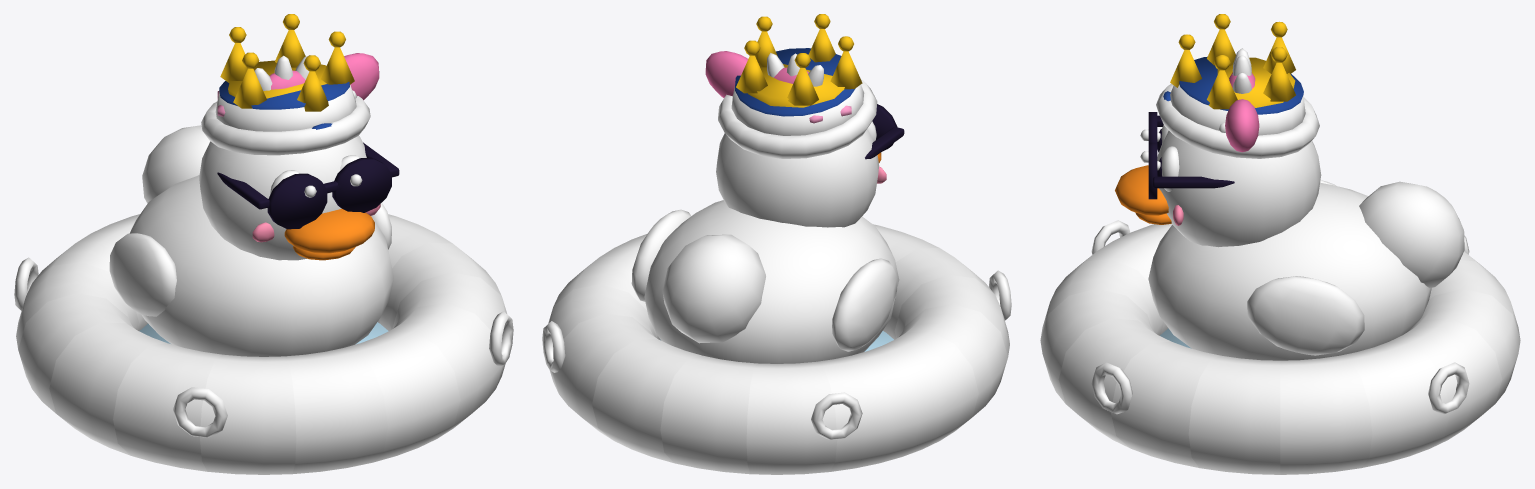
Rendered from ducks.glb.
3 views of the same model, side by side, from view 1: azimuth 30°, elevation 25°; view 2: azimuth 150°, elevation 25°; view 3: azimuth 270°, elevation 25° (orthographic). The views are drawn at different scales.
Visible parts, largest first — view 1: boat_mesh, duck_mesh, acc_sailor_mesh, acc_shades_mesh, acc_crown_mesh, acc_bow_mesh, acc_tuft_mesh; view 2: boat_mesh, duck_mesh, acc_sailor_mesh, acc_crown_mesh, acc_bow_mesh, acc_shades_mesh, acc_tuft_mesh; view 3: boat_mesh, duck_mesh, acc_sailor_mesh, acc_crown_mesh, acc_shades_mesh, acc_bow_mesh, acc_tuft_mesh.
Boxes of the visible parts, left/top/right/bottom form: boat_mesh: left=14, top=214, right=513, bottom=474; duck_mesh: left=109, top=125, right=393, bottom=356; acc_sailor_mesh: left=201, top=81, right=370, bottom=155; acc_shades_mesh: left=217, top=142, right=399, bottom=229; acc_crown_mesh: left=220, top=14, right=354, bottom=111; acc_bow_mesh: left=269, top=53, right=379, bottom=100; acc_tuft_mesh: left=254, top=55, right=310, bottom=90; boat_mesh: left=542, top=224, right=1011, bottom=474; duck_mesh: left=631, top=121, right=899, bottom=363; acc_sailor_mesh: left=718, top=48, right=877, bottom=158; acc_crown_mesh: left=736, top=14, right=862, bottom=107; acc_bow_mesh: left=705, top=51, right=808, bottom=97; acc_shades_mesh: left=865, top=104, right=904, bottom=159; acc_tuft_mesh: left=767, top=53, right=823, bottom=86; boat_mesh: left=1040, top=220, right=1520, bottom=474; duck_mesh: left=1115, top=124, right=1464, bottom=360; acc_sailor_mesh: left=1156, top=56, right=1319, bottom=158; acc_crown_mesh: left=1170, top=14, right=1295, bottom=109; acc_shades_mesh: left=1140, top=112, right=1234, bottom=199; acc_bow_mesh: left=1219, top=72, right=1259, bottom=152; acc_tuft_mesh: left=1232, top=48, right=1251, bottom=93.
Bounding box in the file's own units: 2.26 × 1.86 × 2.26.
